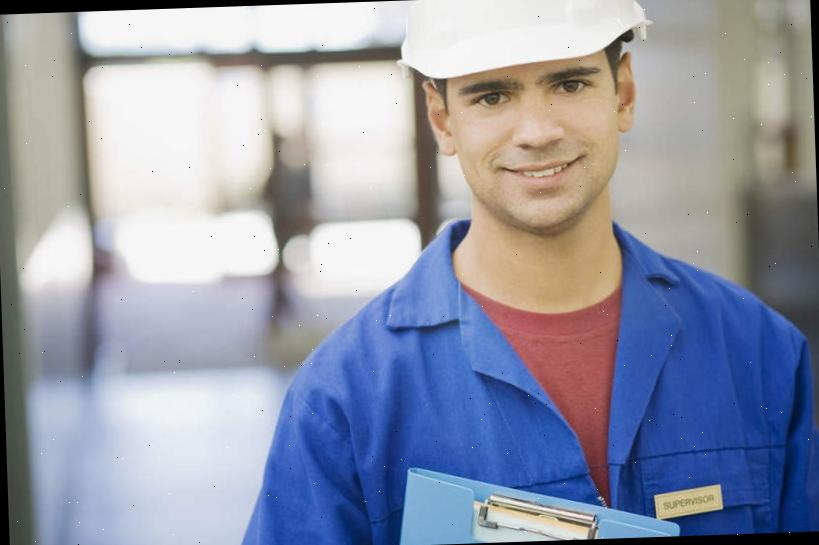helmet: (392, 0, 661, 84)
wear: (286, 248, 819, 545)
